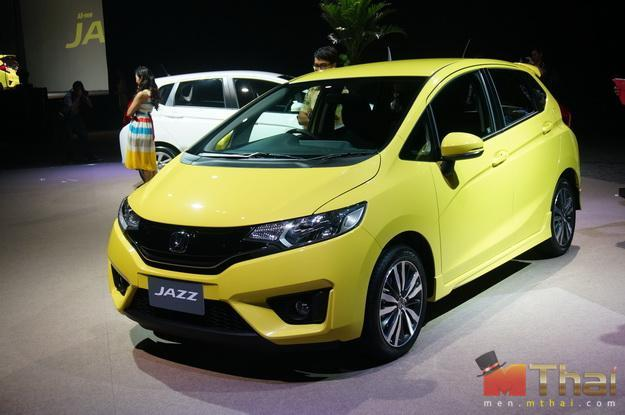Hatchback: (98, 50, 589, 367)
